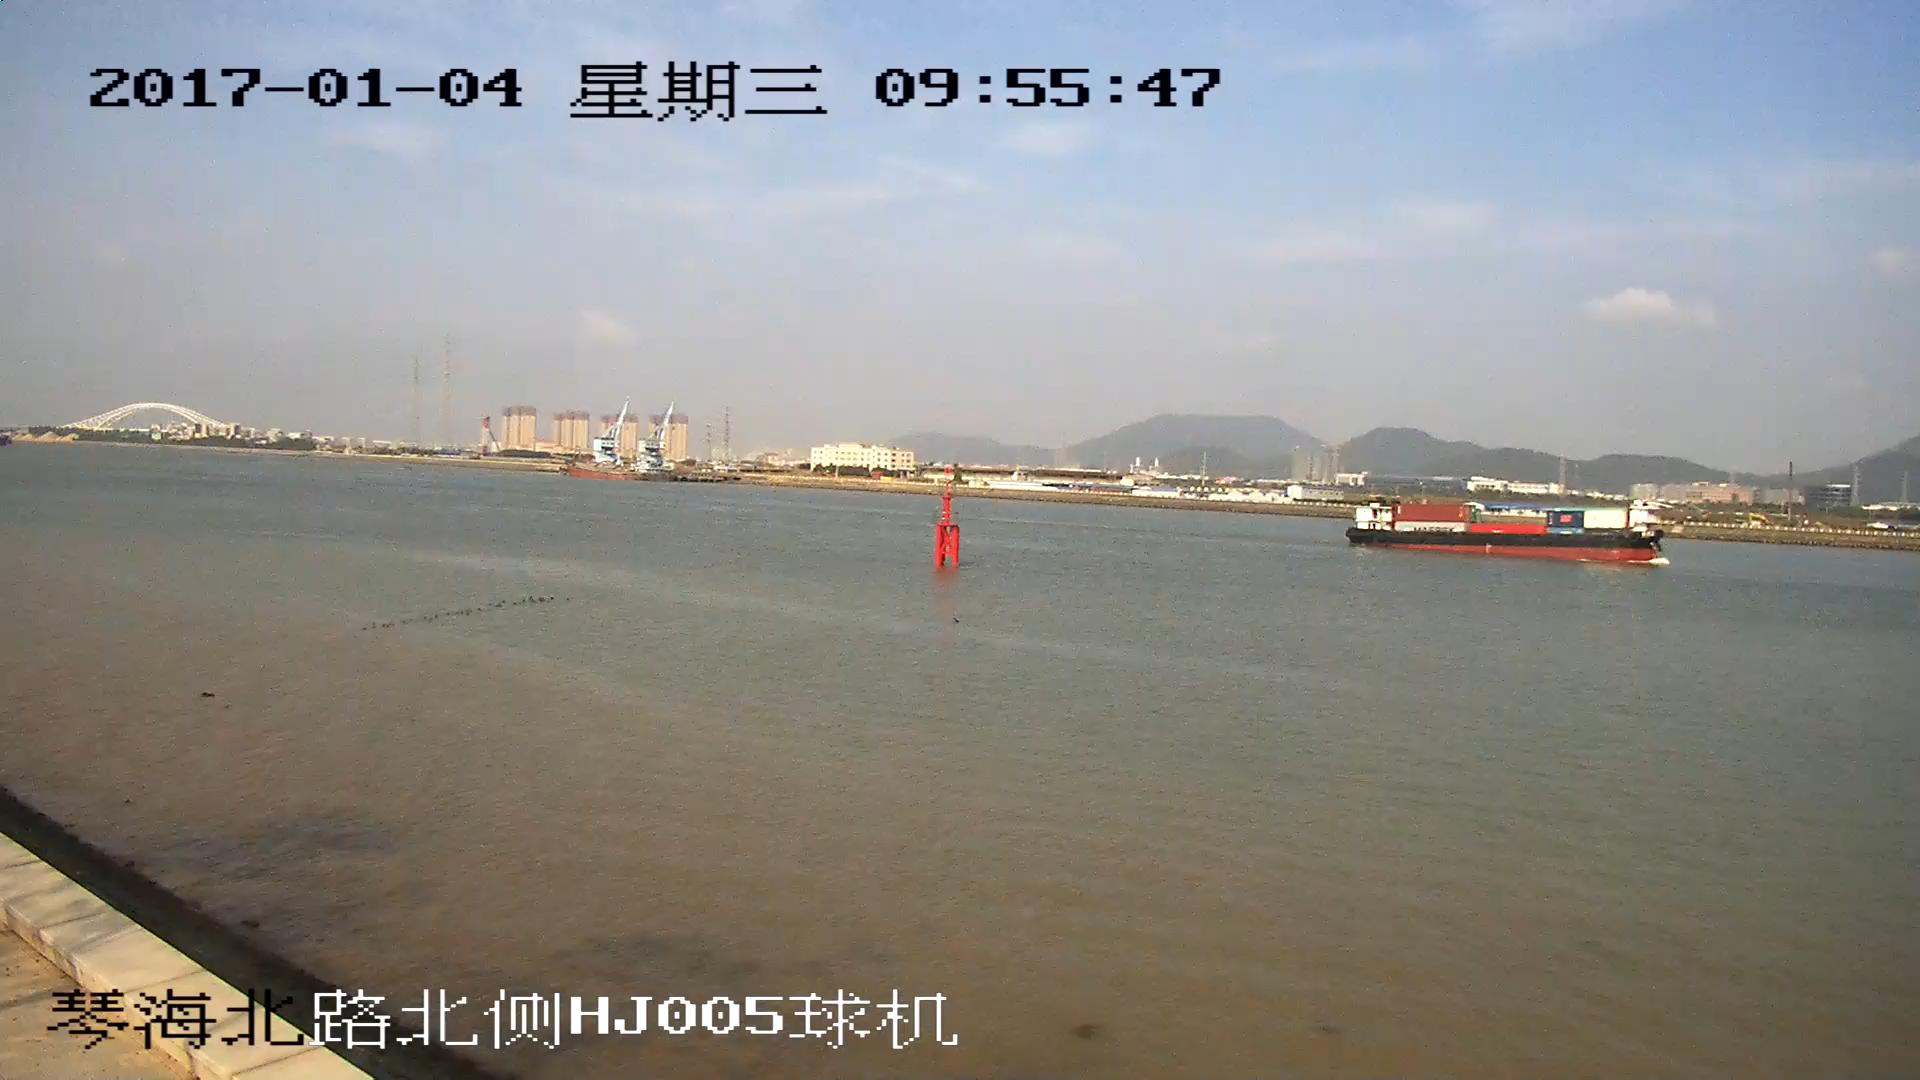container ship: (1349, 494, 1663, 565)
